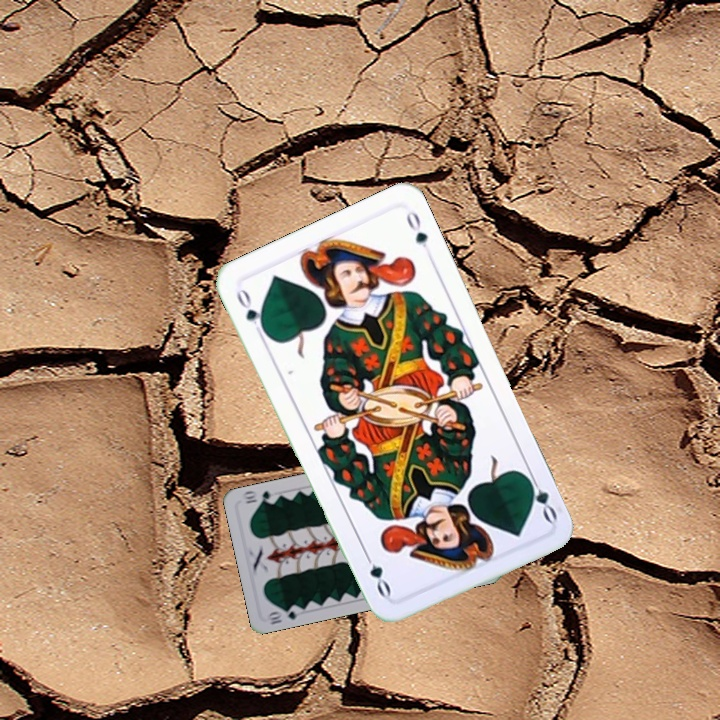G10: (264, 601, 305, 627)
GO: (520, 468, 560, 525), (232, 283, 270, 340)
